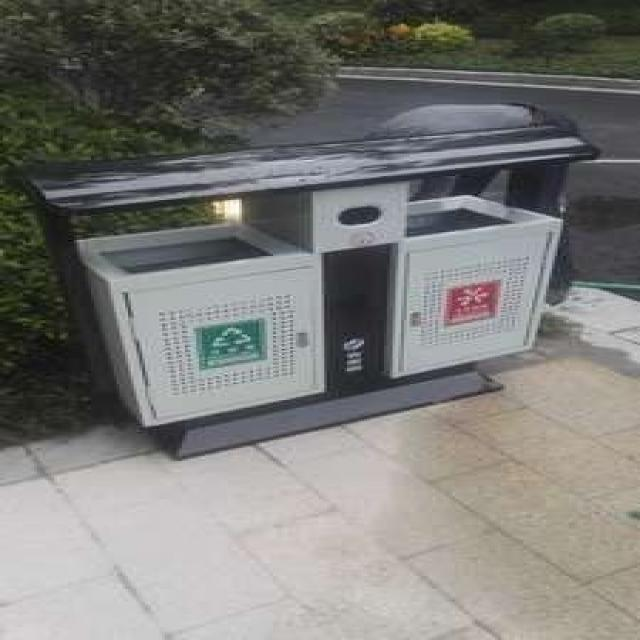ash bin: (14, 118, 600, 461)
